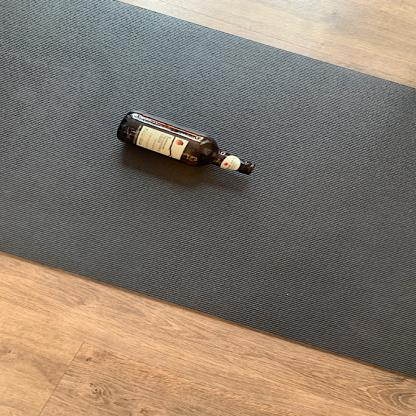trash: (115, 110, 257, 178)
